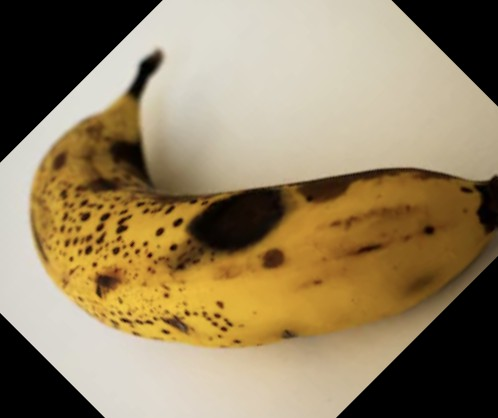rotten_banana: (31, 48, 498, 348)
